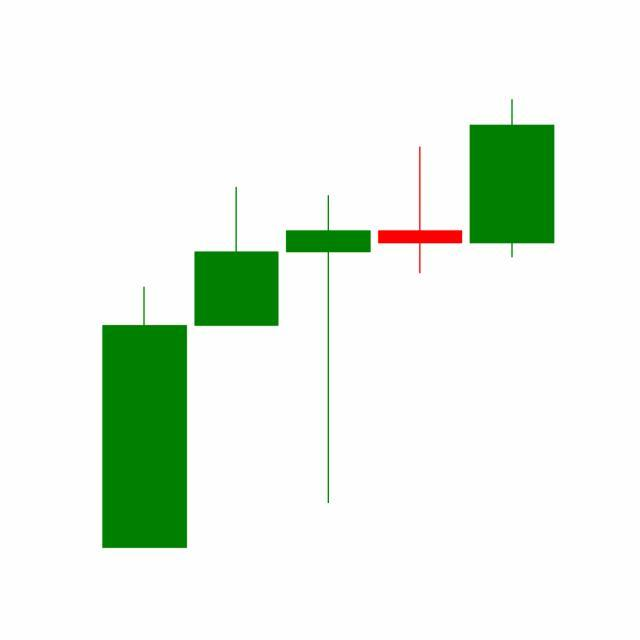Marubozu: (466, 98, 559, 261)
